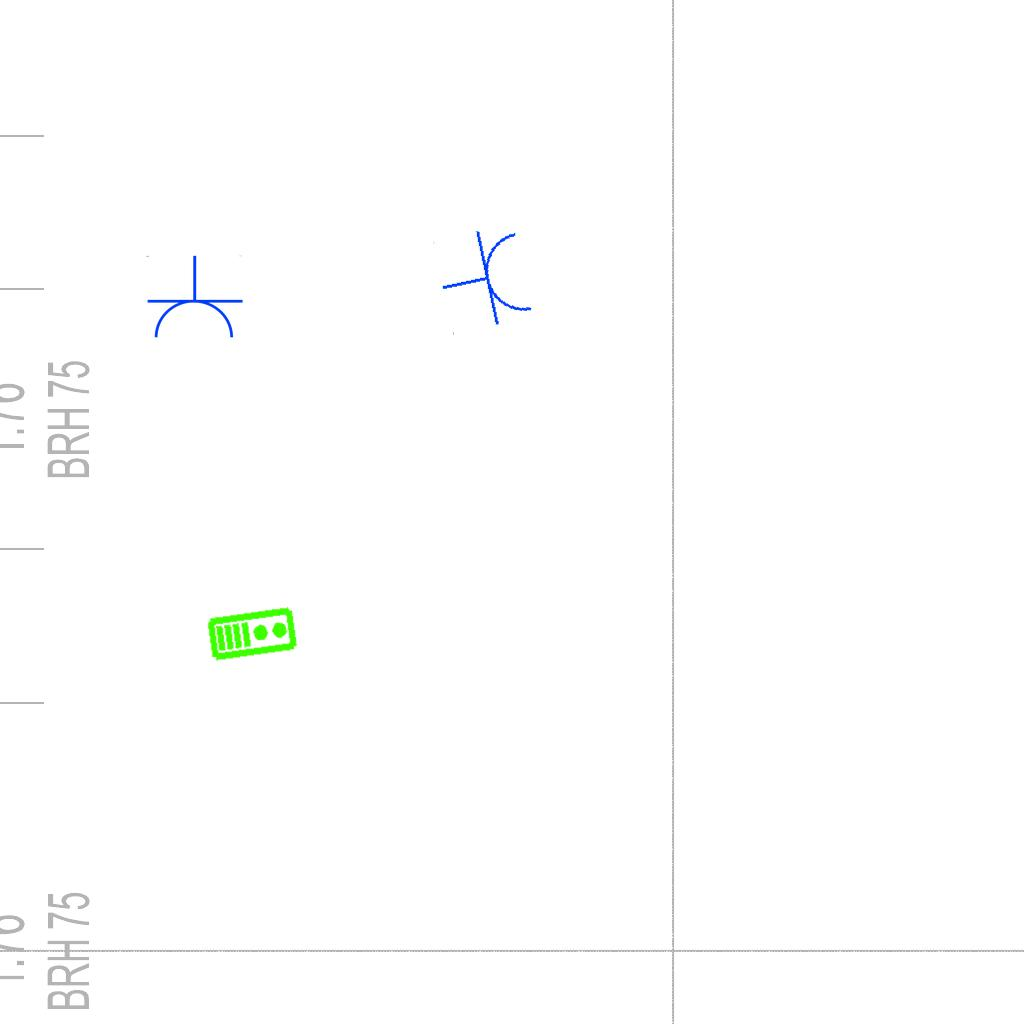Gegensprechanlage_mit_Video: (205, 603, 300, 663)
Schukosteckdose_einfach: (432, 221, 538, 338), (144, 255, 244, 342)
